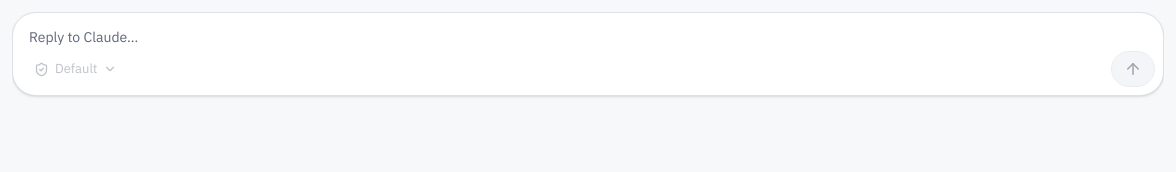
Test: backs off receipt reads at 1, 2, 4, 8, then 10 seconds and caps waiting at two minutes
Later steps or results of the test are not shown.
Type "Fixture reply" into the text box named "Reply to session" at (588, 32), box [13,13,1163,51]
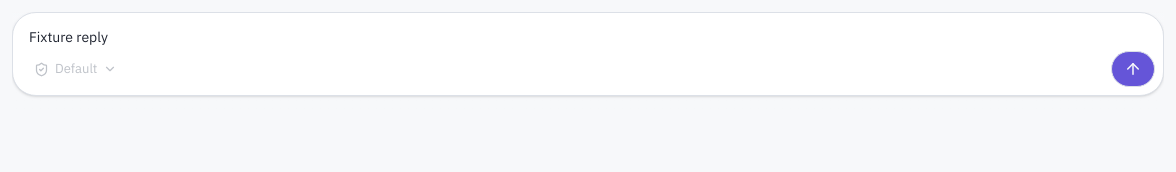
Click the button named "Send" at (1133, 69), box [1111,51,1155,87]
Wait 140010 ms
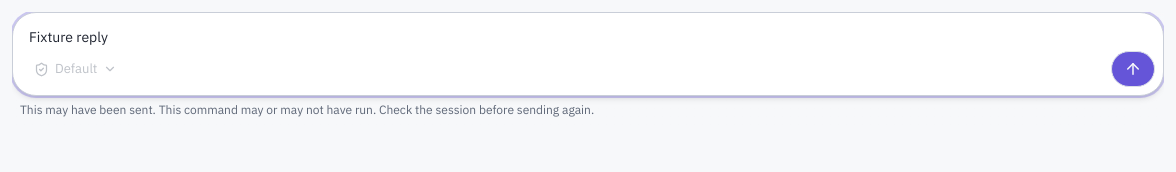
Expected: the text box is enabled, [13,13,1163,51]
Now the button named "Send" is enabled, box [1111,51,1155,87]
Now the text "This may have been sent" is shown, box [20,102,594,117]
